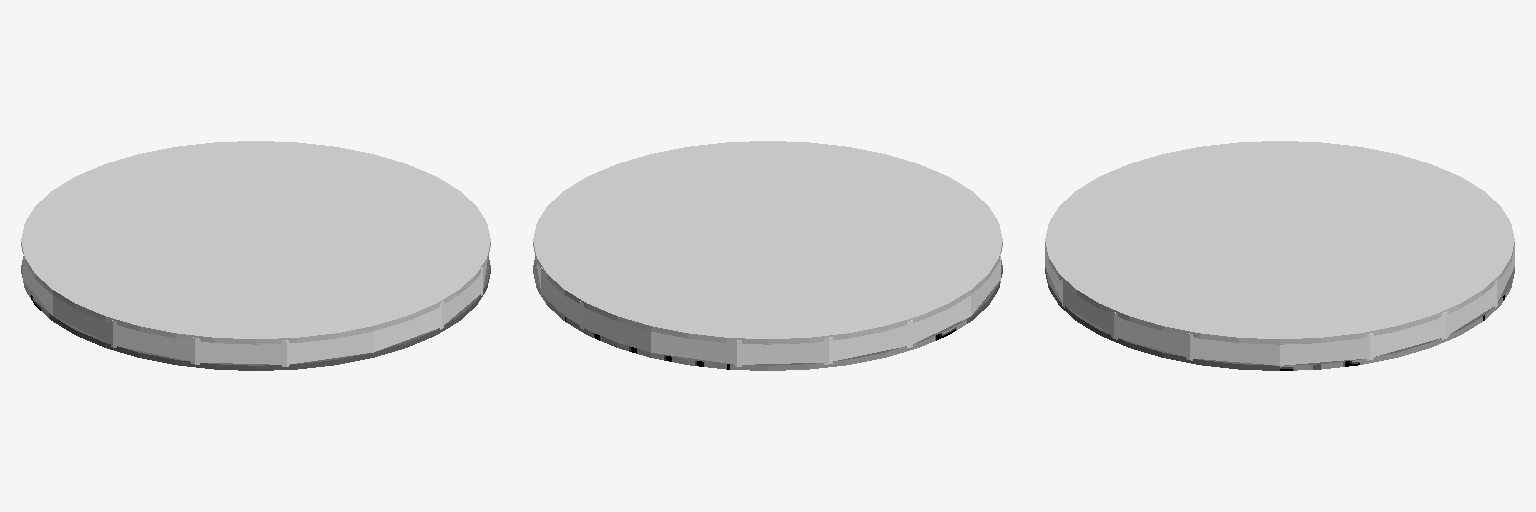
3 views of the same model, side by side, from view 1: azimuth 30°, elevation 25°; view 2: azimuth 150°, elevation 25°; view 3: azimuth 270°, elevation 25° (orthographic).
Visible parts, largest first — view 1: CompassBody; view 2: CompassBody; view 3: CompassBody.
Part boxes in pixels (x1,y1,x2,y2): CompassBody: (21, 141, 490, 370); CompassBody: (533, 141, 1002, 370); CompassBody: (1045, 141, 1514, 370).
Size of the model in its own units: 0.4 by 0.0299 by 0.4.
Materials: 3 (1 with a texture image).